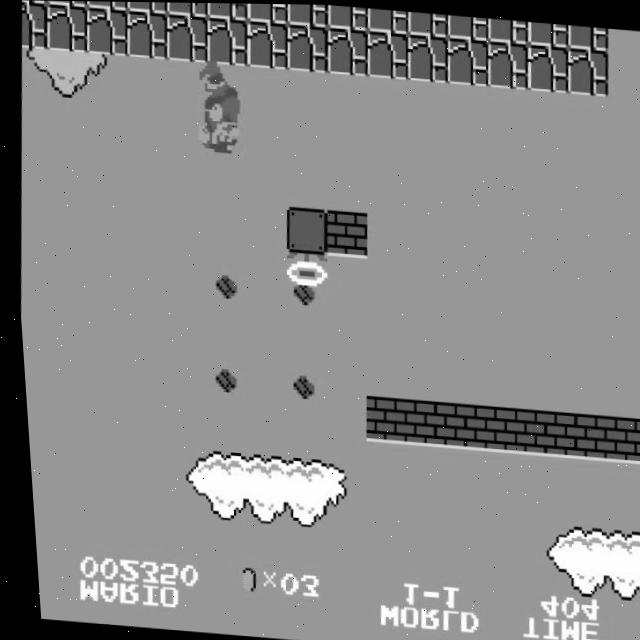0- big_mario: (189, 58, 244, 156)
1- brick_block: (320, 208, 367, 258), (397, 397, 444, 446), (517, 407, 564, 456), (437, 401, 484, 449), (557, 411, 604, 459), (357, 394, 403, 443), (477, 404, 523, 453), (597, 414, 640, 462), (638, 417, 640, 463)
17- undestructible_block: (43, 3, 90, 53), (243, 19, 290, 69), (283, 22, 330, 72), (363, 29, 410, 79), (403, 32, 450, 82), (523, 42, 570, 92), (163, 13, 210, 62), (203, 16, 250, 65), (323, 26, 370, 75), (483, 39, 530, 88), (83, 6, 129, 56), (123, 9, 169, 59), (444, 36, 490, 85), (564, 46, 610, 95), (19, 1, 49, 50), (565, 23, 610, 50), (445, 13, 489, 40), (405, 10, 450, 36), (525, 20, 570, 46), (365, 7, 409, 33), (485, 17, 529, 43), (325, 4, 369, 29), (285, 3, 329, 27), (245, 3, 289, 23), (205, 2, 249, 20), (165, 2, 209, 16), (125, 1, 169, 13), (85, 1, 128, 10), (45, 1, 88, 7)
3- empty_block: (280, 205, 327, 255)
6- flower: (278, 248, 325, 289)
